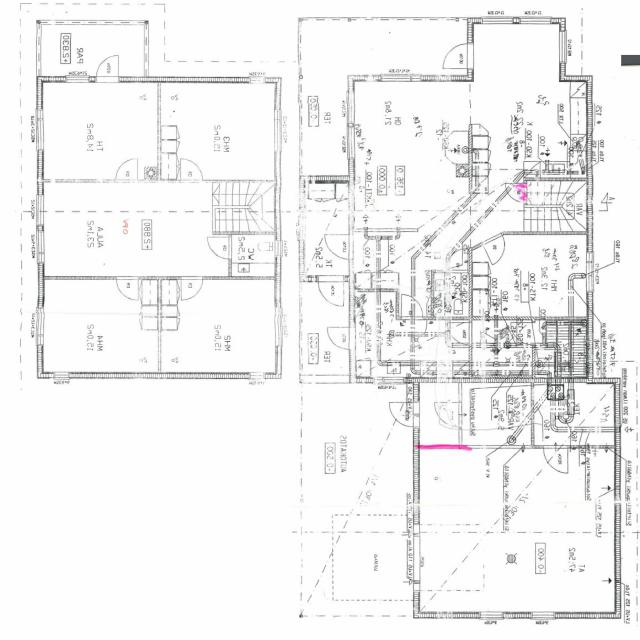door: (482, 232, 512, 264), (388, 402, 420, 427), (319, 275, 344, 307), (443, 44, 474, 68), (434, 402, 462, 427), (326, 234, 354, 258), (327, 326, 356, 349), (96, 53, 119, 82), (544, 445, 568, 472), (510, 322, 536, 345), (401, 295, 423, 320), (447, 322, 472, 344), (207, 237, 232, 259), (181, 158, 203, 182), (116, 158, 138, 182), (181, 277, 203, 301), (447, 249, 468, 273), (117, 277, 138, 301)
